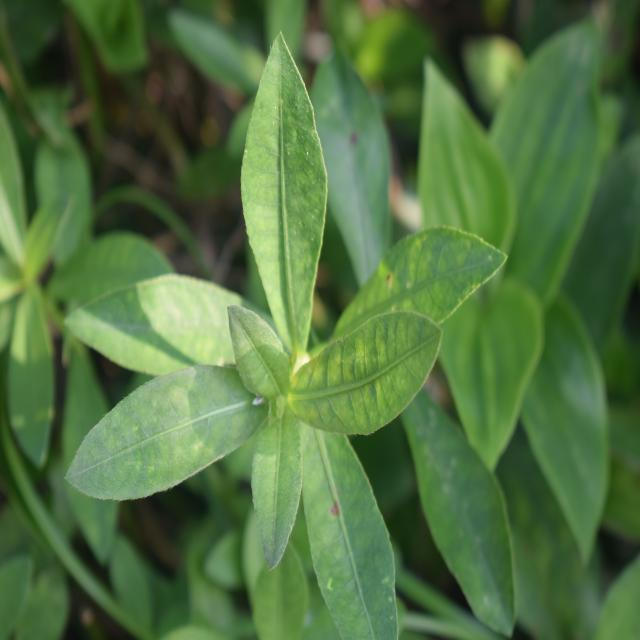Alligatorweed: (124, 74, 498, 600)
